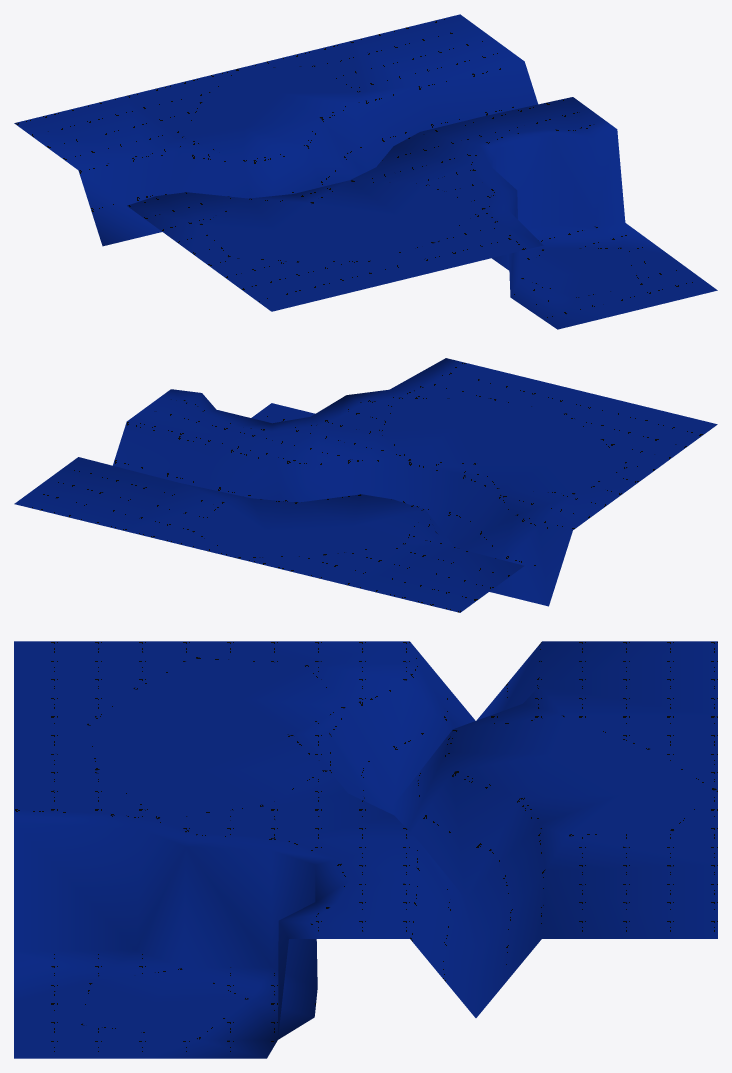
Rendered from GRD_S_C4_R2_2.fbx.
3 renders of one model, top to bottom at view 1: azimuth 30°, elevation 25°; view 2: azimuth 150°, elevation 25°; view 3: azimuth 270°, elevation 25°, orthographic. The views are drawn at different scales.
Visible parts, largest first — view 1: material_00042000, material_C0012000, material_C0022000, material_00032000; view 2: material_00042000, material_C0012000, material_C0022000, material_00032000; view 3: material_00042000, material_C0012000, material_00032000, material_C0022000.
Part boxes in pixels (<box>): material_00042000: <box>14,14,717,329</box>; material_C0012000: <box>181,65,643,297</box>; material_C0022000: <box>78,61,537,246</box>; material_00032000: <box>469,120,625,296</box>; material_00042000: <box>14,363,717,612</box>; material_C0012000: <box>191,397,627,558</box>; material_C0022000: <box>113,421,572,606</box>; material_00032000: <box>159,358,466,431</box>; material_00042000: <box>14,641,717,1058</box>; material_C0012000: <box>79,657,717,1040</box>; material_00032000: <box>14,808,349,1037</box>; material_C0022000: <box>329,642,545,1017</box>.
Size of the model in its own units: 12800 by 2400 by 12800.
